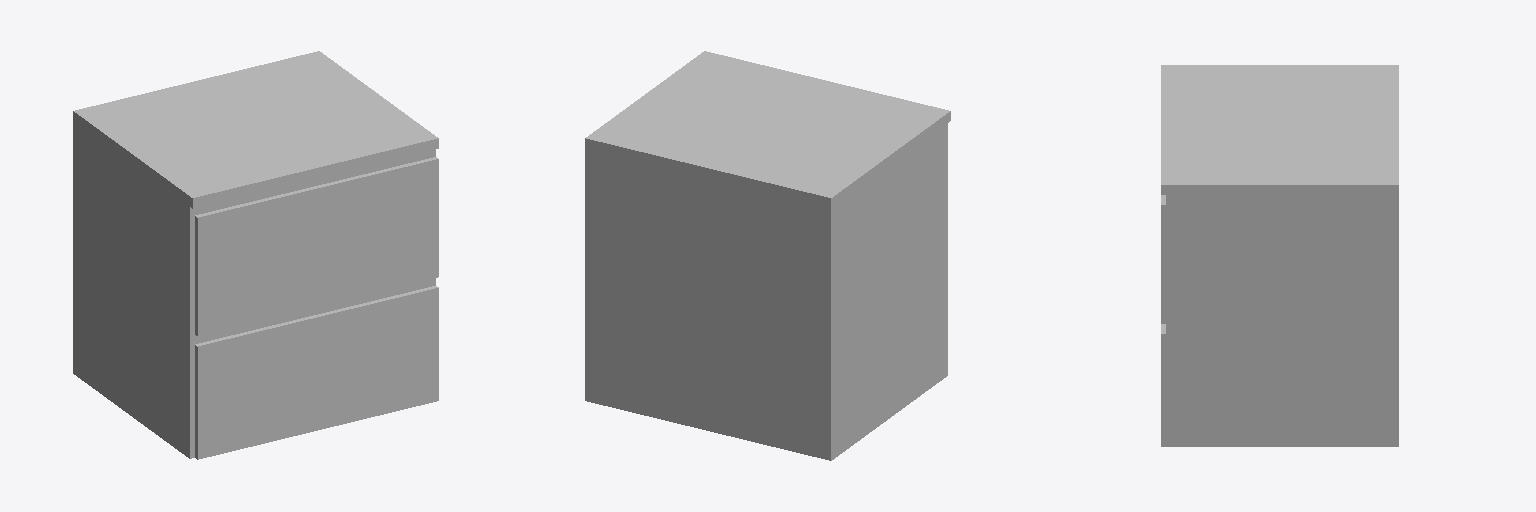
Rendered from KitchenOPEN_Export-13.obj.
The picture shows the model from 3 angles: view 1: azimuth 30°, elevation 25°; view 2: azimuth 150°, elevation 25°; view 3: azimuth 270°, elevation 25°; orthographic projection.
Parts seen in each view (by area): view 1: KitchenOPEN_Export-13; view 2: KitchenOPEN_Export-13; view 3: KitchenOPEN_Export-13.
Part boxes in pixels (bbox=[...]): KitchenOPEN_Export-13: bbox=[73, 51, 438, 459]; KitchenOPEN_Export-13: bbox=[585, 51, 950, 460]; KitchenOPEN_Export-13: bbox=[1161, 65, 1398, 446].
Size of the model in its own units: 50 by 51 by 42.